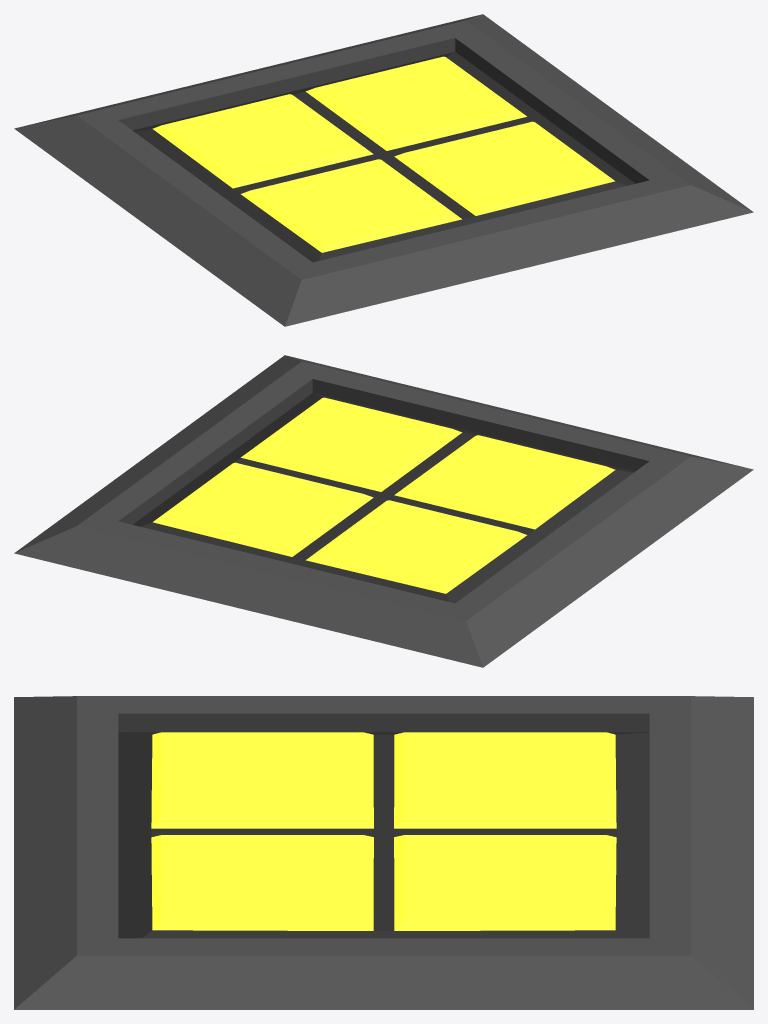
Rendered from solar panel.fbx.
The picture shows the model from 3 angles, top to bottom: view 1: azimuth 30°, elevation 25°; view 2: azimuth 150°, elevation 25°; view 3: azimuth 270°, elevation 25°; orthographic projection. The views are drawn at different scales.
Parts seen in each view (by area): view 1: Cube; view 2: Cube; view 3: Cube.
Boxes of the visible parts, box(x1,y1,x2,y2) form: Cube: box(14, 14, 753, 326); Cube: box(14, 355, 753, 667); Cube: box(14, 696, 753, 1009).
Bounding box in the file's own units: 241 × 9.95 × 241.
